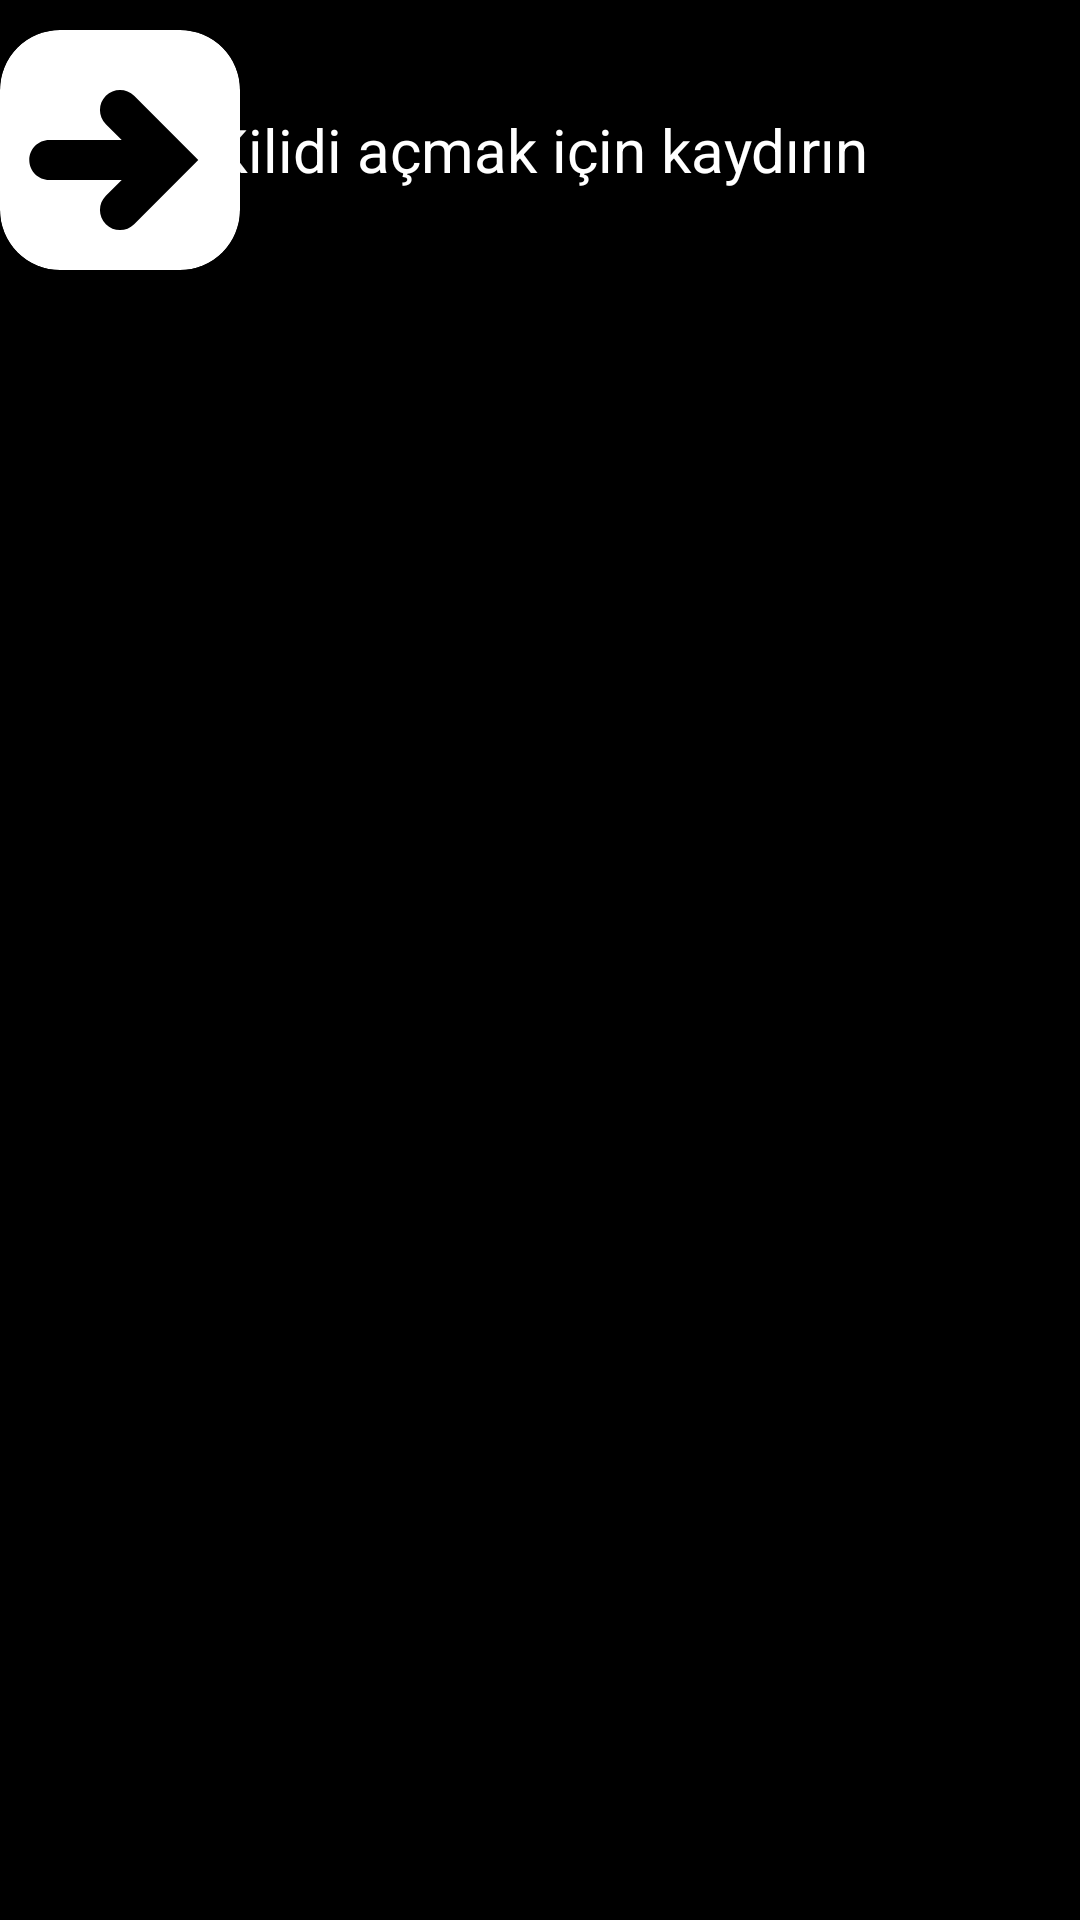

Icons on this 1080 × 1920 Android screen, each with its box as BBox(x1, y1, x2, y2):
thick right arrow: BBox(0, 30, 240, 270)
